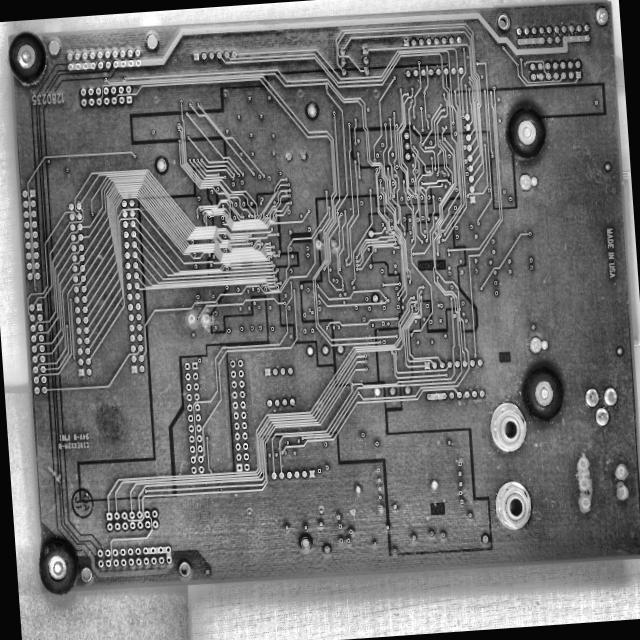PCB: (3, 0, 640, 599)
